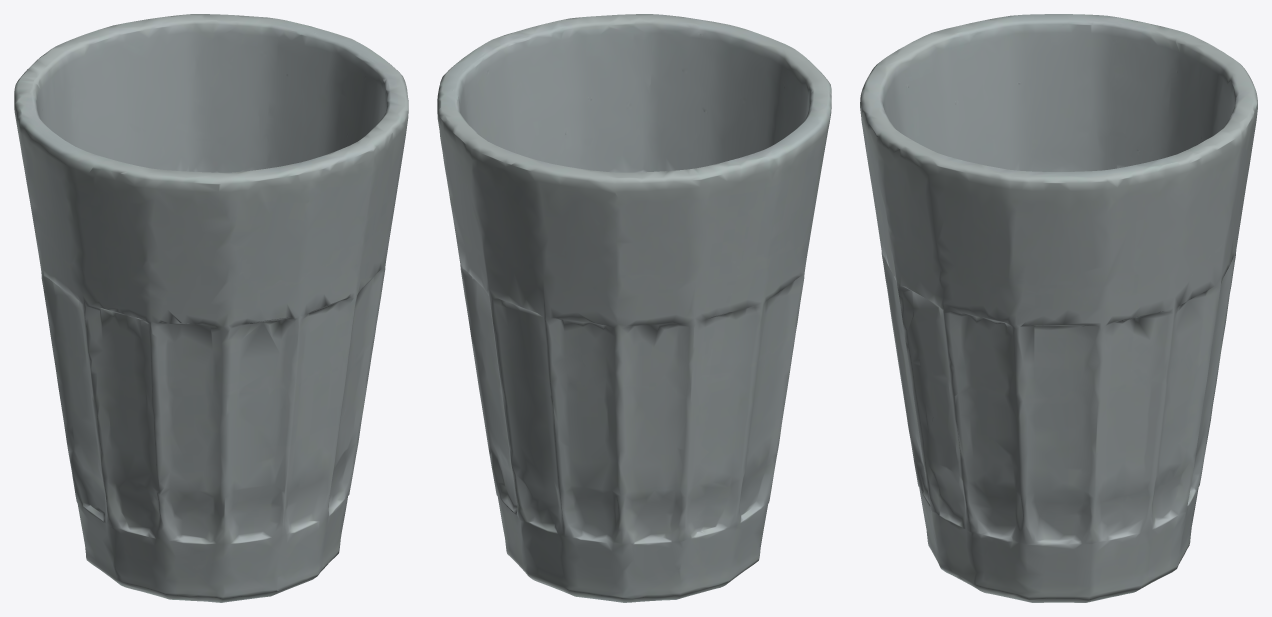
The model's file is vaso.glb.
3 views of the same model, side by side, from view 1: azimuth 30°, elevation 25°; view 2: azimuth 150°, elevation 25°; view 3: azimuth 270°, elevation 25° (orthographic).
Visible parts, largest first — view 1: tripo_node_8e2633f5-db06-4998-b1dd-fac3eae56ffe; view 2: tripo_node_8e2633f5-db06-4998-b1dd-fac3eae56ffe; view 3: tripo_node_8e2633f5-db06-4998-b1dd-fac3eae56ffe.
Boxes of the visible parts, x1,y1,x2,y2 form: tripo_node_8e2633f5-db06-4998-b1dd-fac3eae56ffe: [14, 14, 408, 602]; tripo_node_8e2633f5-db06-4998-b1dd-fac3eae56ffe: [437, 14, 831, 602]; tripo_node_8e2633f5-db06-4998-b1dd-fac3eae56ffe: [860, 14, 1257, 602].
Bounding box in the file's own units: 0.7826 × 1 × 0.7852.
1 material, 1 textured.
